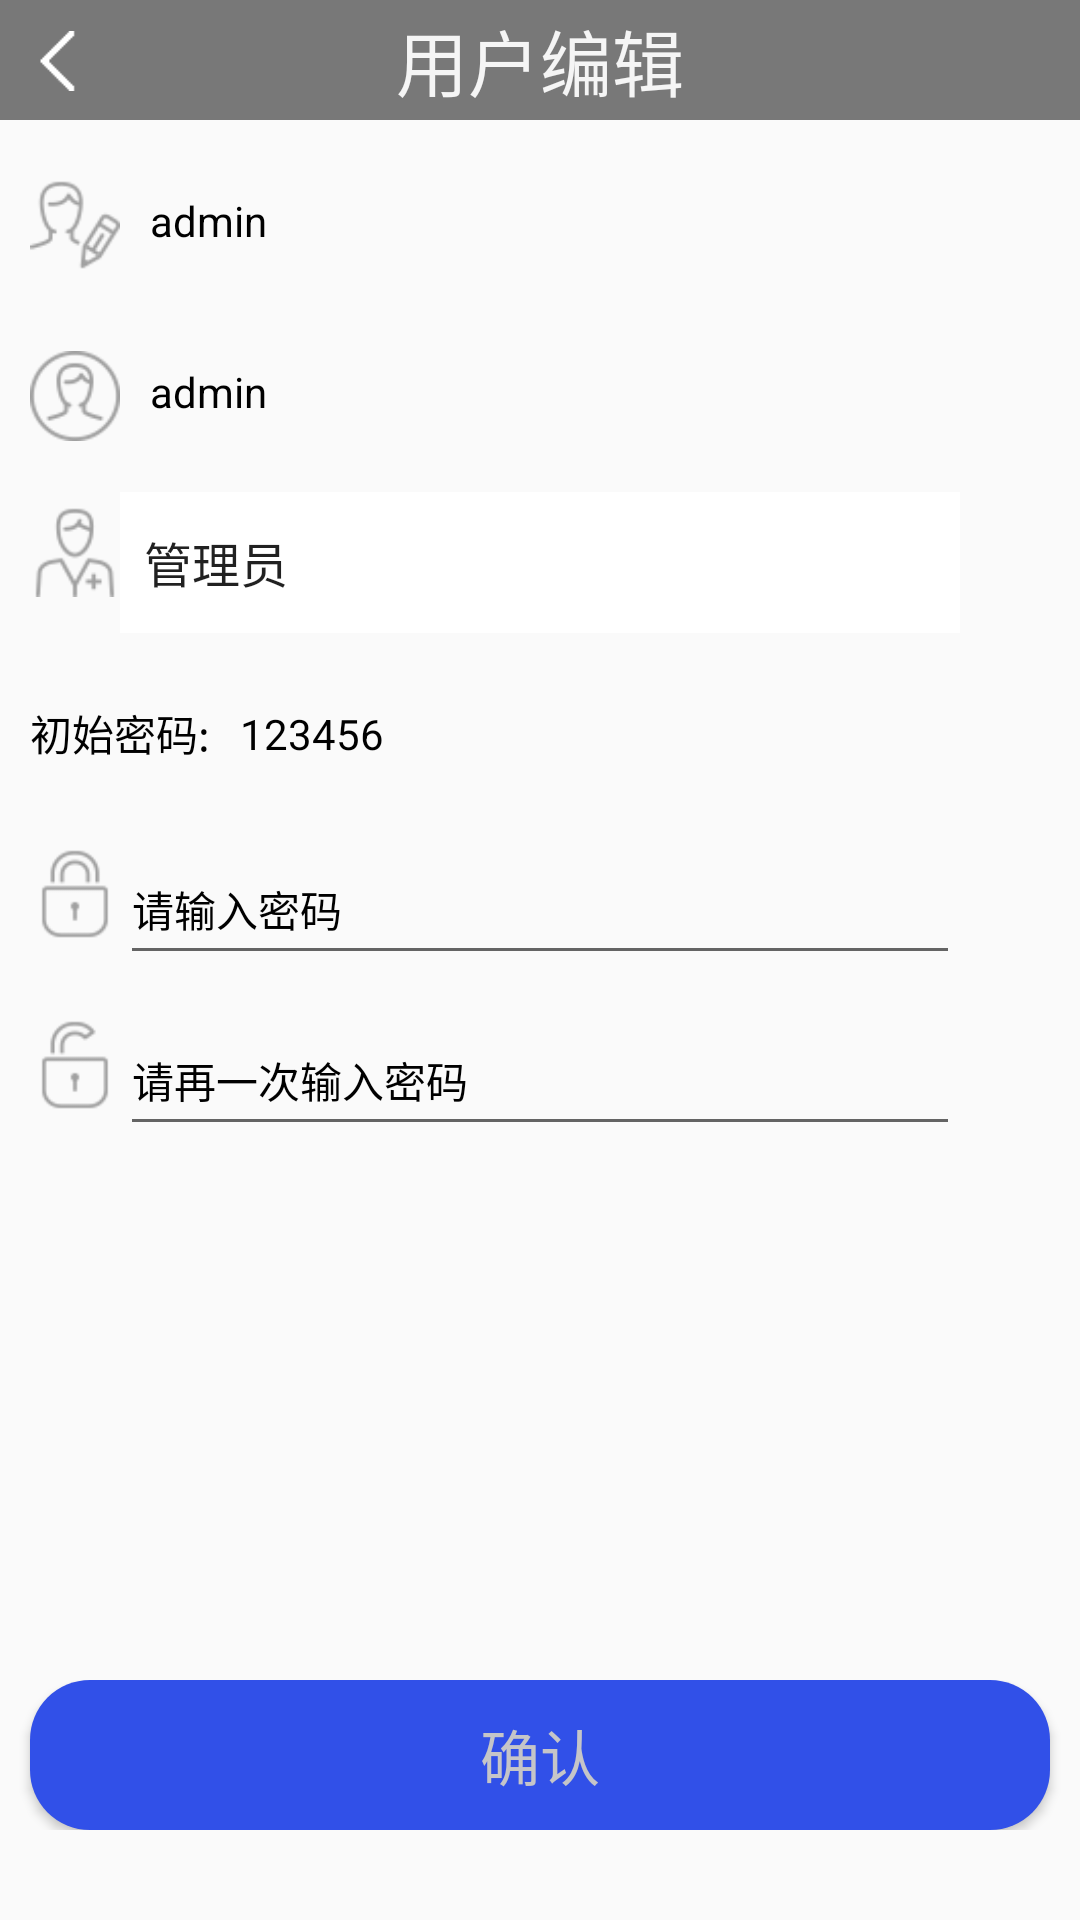

Point at icon controls on the screen. Image size 1080x1920, points as (x,y).
account: (75,396)
password: (75,894), (75,1065)
user name: (75,225)
